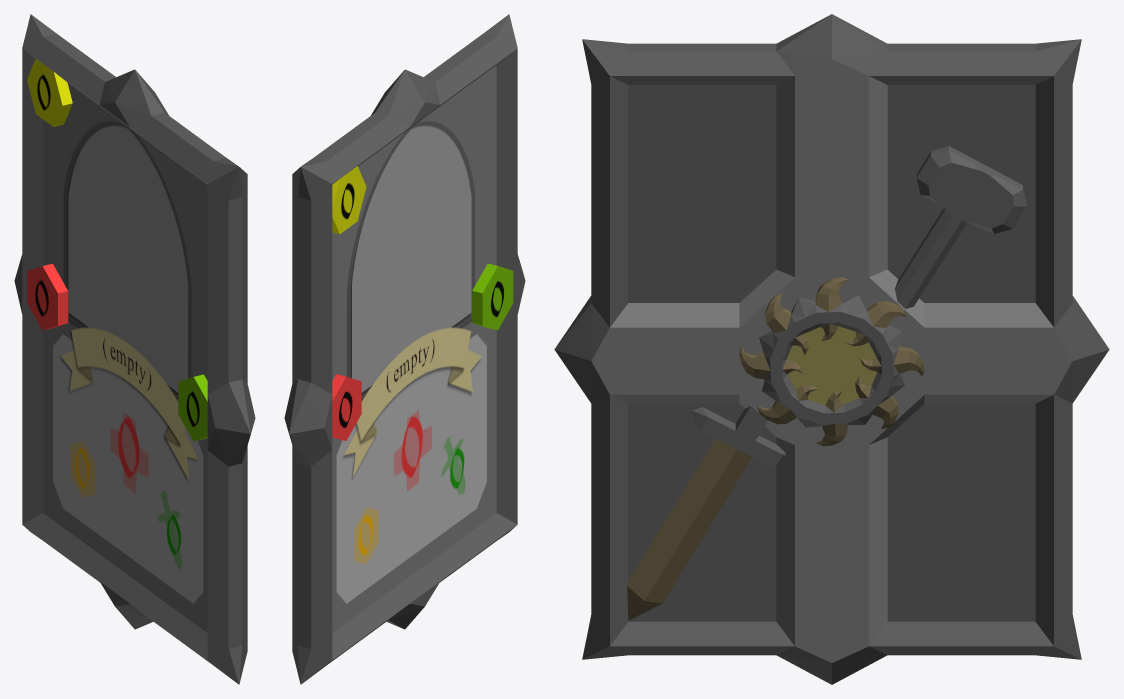
Rendered from card_1.glb.
The picture shows the model from 3 angles, left to right: view 1: azimuth 30°, elevation 25°; view 2: azimuth 150°, elevation 25°; view 3: azimuth 270°, elevation 25°; orthographic projection. The views are drawn at different scales.
Visible parts, largest first — view 1: base, life_label, mana_cost_label, attack_label; view 2: base, attack_label, life_label, mana_cost_label; view 3: base, emblem, sword, hammer.
Boxes of the visible parts, left/top/right/bottom form: base: left=14, top=14, right=255, bottom=684; life_label: left=27, top=263, right=68, bottom=330; mana_cost_label: left=27, top=59, right=72, bottom=126; attack_label: left=178, top=374, right=207, bottom=441; base: left=284, top=14, right=525, bottom=684; attack_label: left=472, top=263, right=513, bottom=330; life_label: left=332, top=374, right=361, bottom=440; mana_cost_label: left=332, top=166, right=366, bottom=234; base: left=554, top=14, right=1109, bottom=684; emblem: left=739, top=277, right=924, bottom=446; sword: left=627, top=406, right=786, bottom=620; hammer: left=895, top=146, right=1026, bottom=308.
Bounding box in the file's own units: 0.5045 × 5.21 × 3.91.
Materials: 12 (4 with a texture image).
